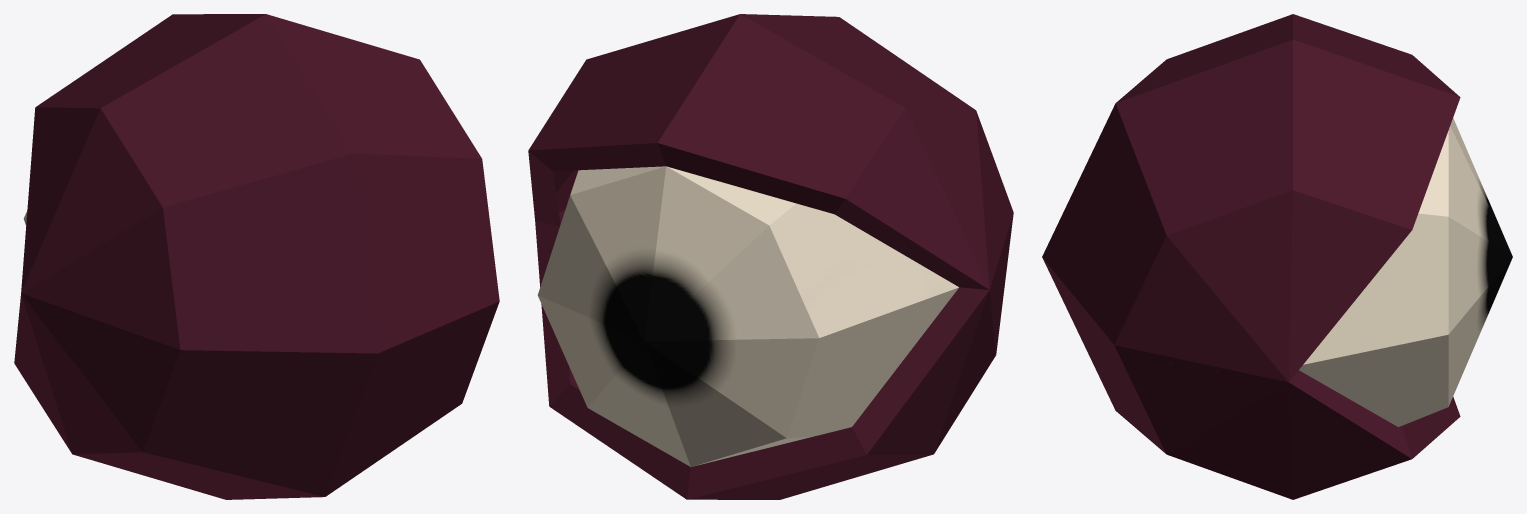
File: Eye.fbx
3 views of the same model, side by side, from view 1: azimuth 30°, elevation 25°; view 2: azimuth 150°, elevation 25°; view 3: azimuth 270°, elevation 25° (orthographic). The views are drawn at different scales.
Parts seen in each view (by area): view 1: Eye.053; view 2: Eye.053; view 3: Eye.053.
Part boxes in pixels (x1,y1,x2,y2): Eye.053: [14, 14, 499, 499]; Eye.053: [528, 14, 1013, 499]; Eye.053: [1042, 14, 1512, 499].
Size of the model in its own units: 0.9203 by 0.9213 by 0.8672.
